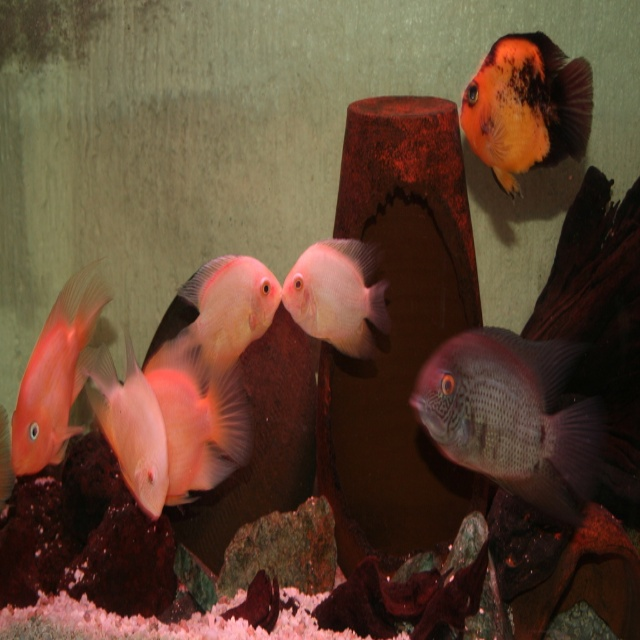Goldfish: (10, 260, 126, 505)
